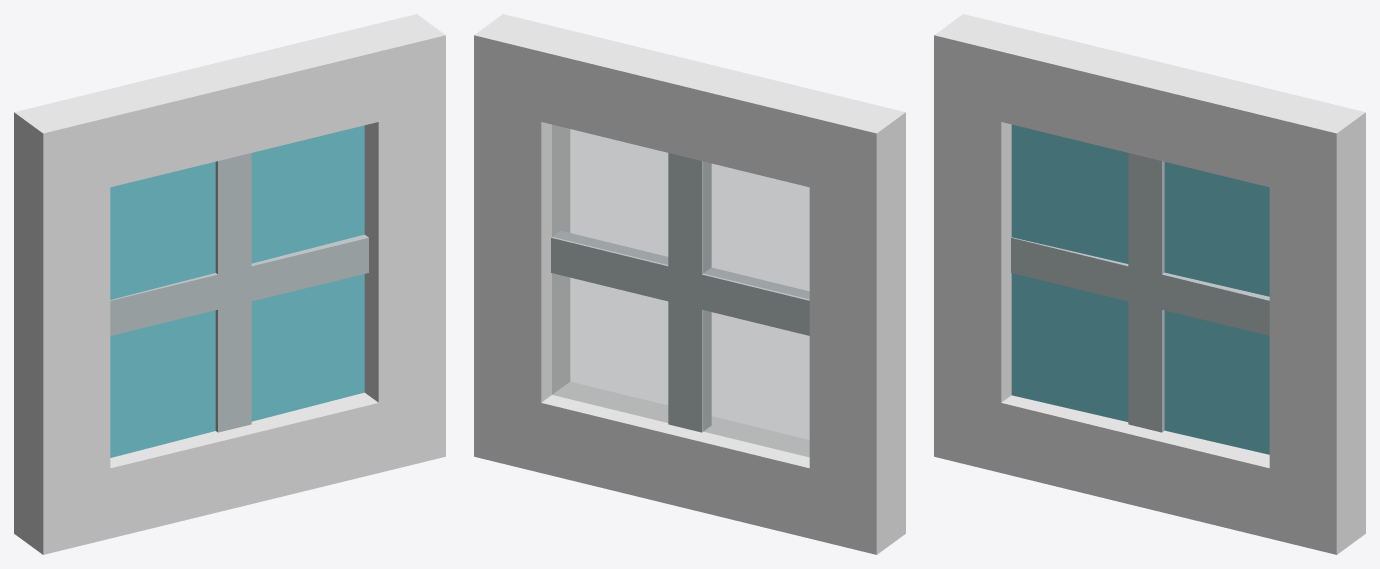
The model's file is kitchen Window.glb.
3 renders of one model, left to right at view 1: azimuth 30°, elevation 25°; view 2: azimuth 150°, elevation 25°; view 3: azimuth 330°, elevation 25°, orthographic.
Parts seen in each view (by area): view 1: Node; view 2: Node; view 3: Node.
Boxes of the visible parts, <box> form: Node: <box>14,14,445,554</box>; Node: <box>474,14,905,554</box>; Node: <box>934,14,1365,554</box>.
Bounding box in the file's own units: 0.24 × 0.24 × 0.03.
